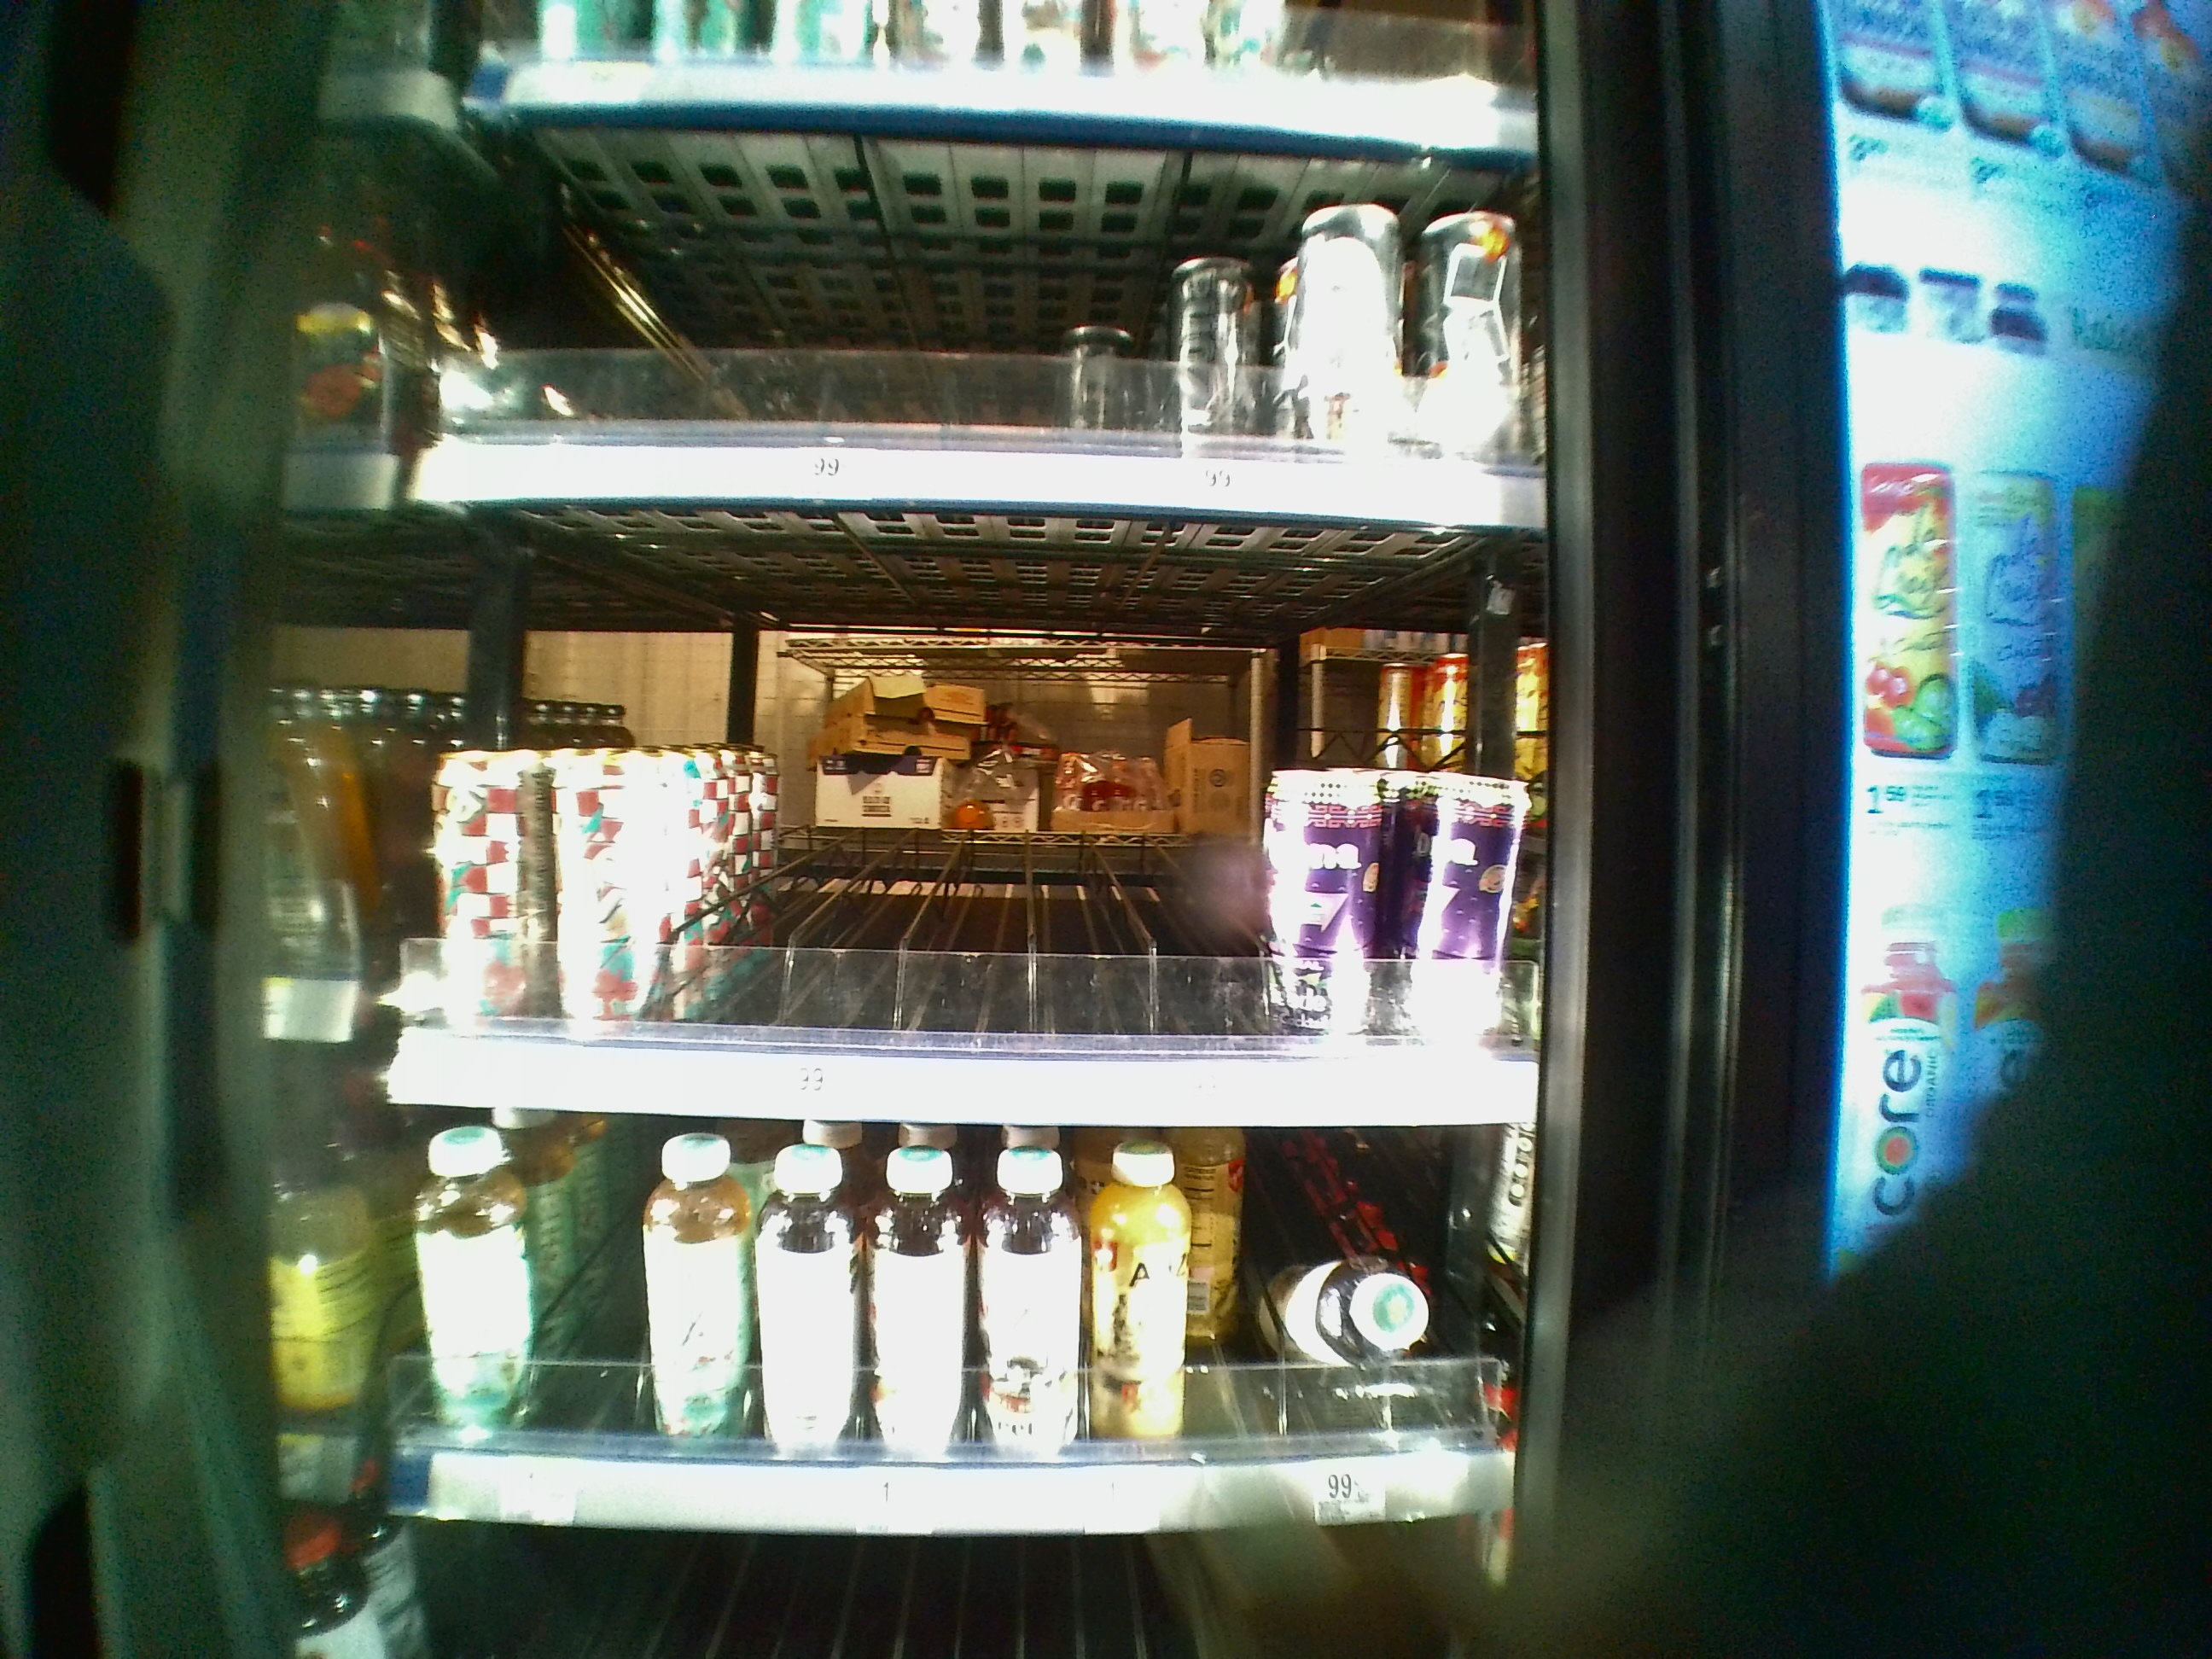shelf: (381, 511, 1548, 1122)
